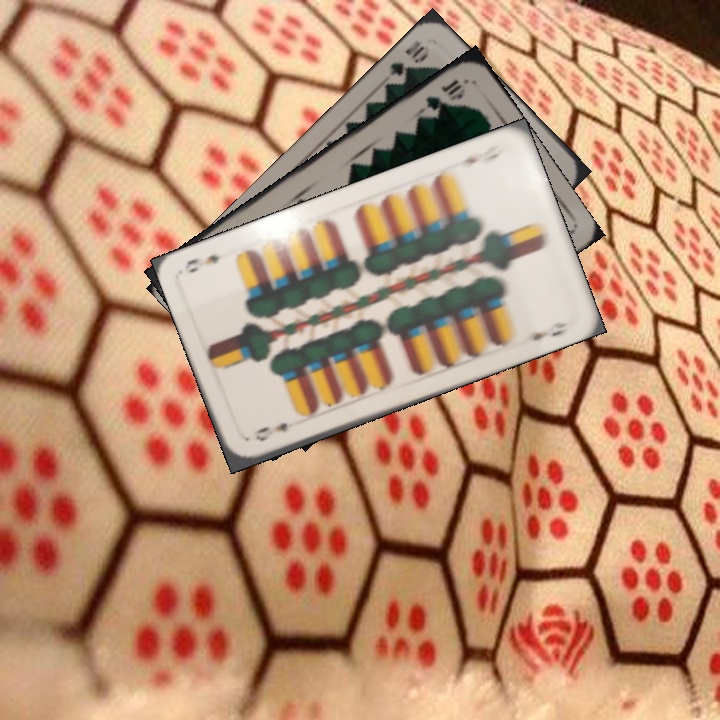E9: (451, 140, 507, 167), (249, 418, 290, 444)
G10: (385, 36, 432, 82), (421, 75, 468, 113)
